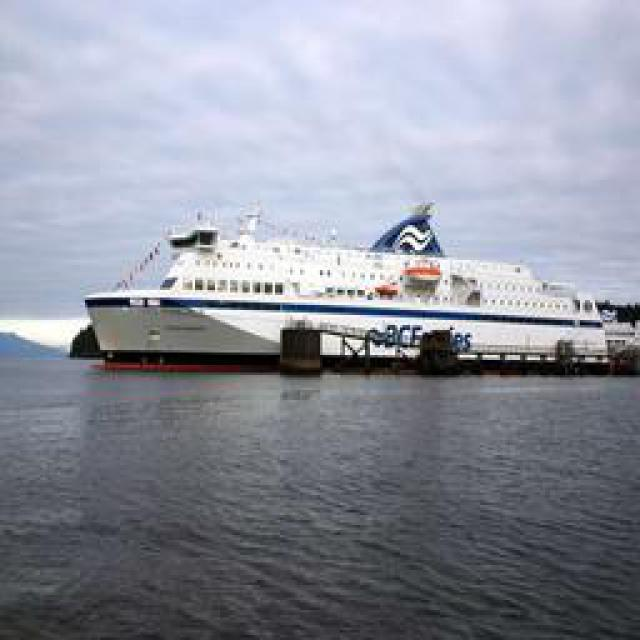Ship: (90, 197, 608, 375)
